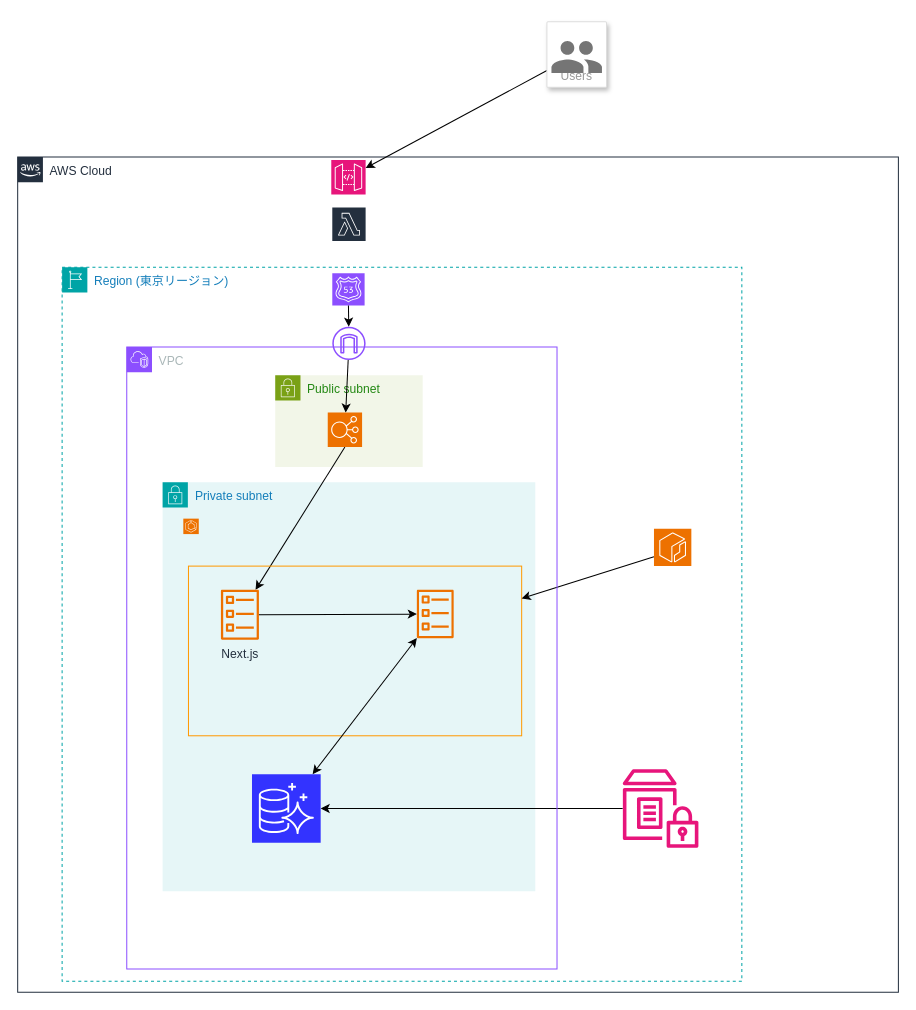
Image size: 916x1010. Some labels were removed from this diagram. Here are the shapes that lost their labels. From the top down, the centre of each, then its label:
the point at 348,230: Lambda
the point at 434,613: Rails
the point at 286,808: Aurora Serverless
